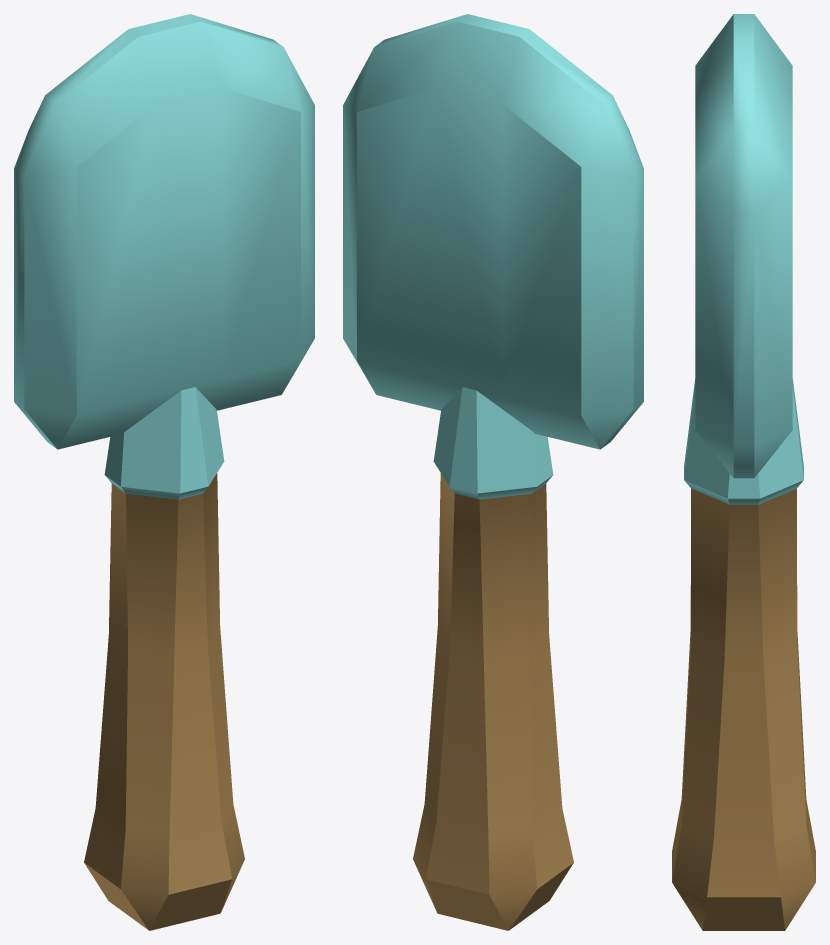
Rendered from Shovel_Diamond.glb.
3 views of the same model, side by side, from view 1: azimuth 30°, elevation 25°; view 2: azimuth 150°, elevation 25°; view 3: azimuth 270°, elevation 25° (orthographic).
Visible parts, largest first — view 1: Shovel_Diamond; view 2: Shovel_Diamond; view 3: Shovel_Diamond.
Boxes of the visible parts, left/top/right/bottom form: Shovel_Diamond: left=14, top=14, right=314, bottom=930; Shovel_Diamond: left=343, top=14, right=643, bottom=930; Shovel_Diamond: left=672, top=14, right=815, bottom=930.
Size of the model in its own units: 0.584 by 1.69 by 0.2499.
1 material, 1 textured.
